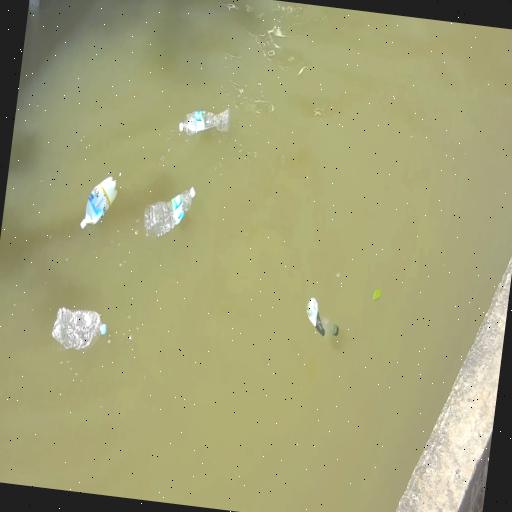plastic: (144, 188, 195, 237), (52, 308, 106, 349), (80, 177, 117, 229), (179, 108, 229, 135), (307, 298, 338, 336)
